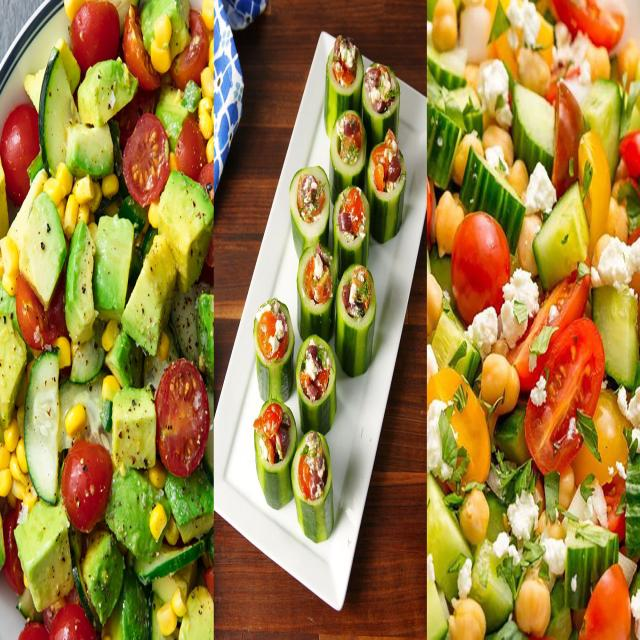Pickle: (460, 148, 525, 252), (534, 182, 590, 290), (24, 348, 60, 505), (428, 472, 472, 600), (39, 48, 79, 175), (592, 285, 639, 388), (254, 400, 298, 510), (291, 430, 334, 542), (565, 521, 619, 610), (335, 265, 376, 378), (366, 130, 406, 242), (254, 298, 295, 400), (470, 538, 514, 632), (581, 80, 622, 180), (511, 82, 555, 175), (295, 335, 336, 434), (325, 35, 364, 138), (298, 242, 338, 340), (362, 62, 400, 161), (332, 185, 370, 282), (290, 168, 330, 256), (330, 110, 366, 205), (134, 540, 205, 585), (428, 105, 461, 190), (428, 45, 466, 90), (625, 452, 640, 560), (449, 340, 481, 385)
